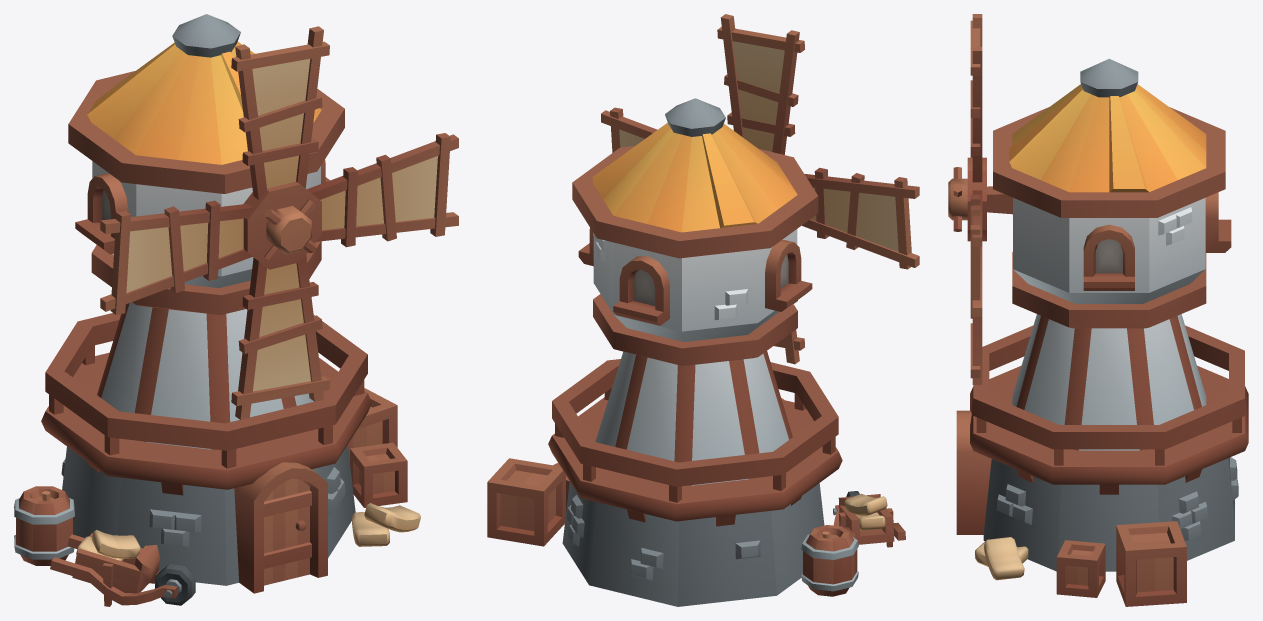
Rendered from building_windmill_yellow.glb.
The picture shows the model from 3 angles, left to right: view 1: azimuth 30°, elevation 25°; view 2: azimuth 150°, elevation 25°; view 3: azimuth 270°, elevation 25°; orthographic projection. The views are drawn at different scales.
Parts seen in each view (by area): view 1: building_windmill_yellow, building_windmill_top_fan_yellow, building_windmill_top_yellow; view 2: building_windmill_yellow, building_windmill_top_yellow, building_windmill_top_fan_yellow; view 3: building_windmill_yellow, building_windmill_top_yellow, building_windmill_top_fan_yellow.
Boxes of the visible parts, x1,y1,x2,y2 form: building_windmill_yellow: [14, 302, 420, 606]; building_windmill_top_fan_yellow: [100, 26, 458, 419]; building_windmill_top_yellow: [68, 14, 344, 314]; building_windmill_yellow: [487, 351, 905, 606]; building_windmill_top_yellow: [572, 98, 818, 365]; building_windmill_top_fan_yellow: [601, 14, 919, 364]; building_windmill_yellow: [956, 314, 1248, 606]; building_windmill_top_yellow: [987, 58, 1231, 328]; building_windmill_top_fan_yellow: [948, 14, 986, 384].
Size of the model in its own units: 1.13 by 1.46 by 0.8165.
1 material, 1 textured.
